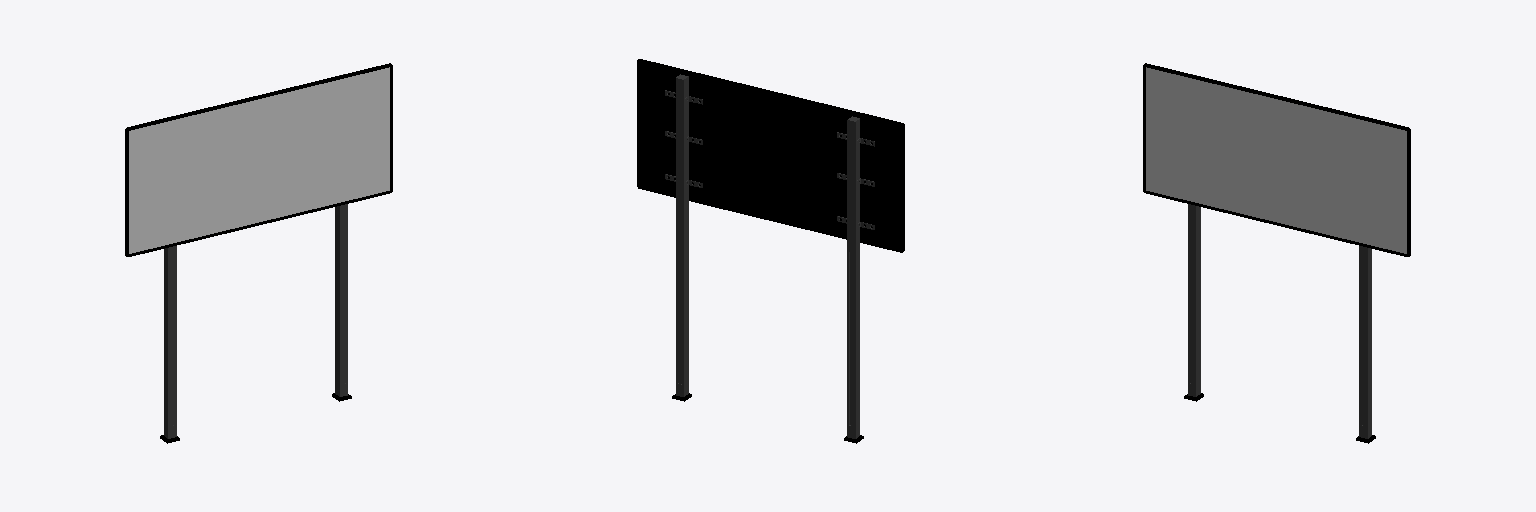
The model's file is fiffo.obj.
3 views of the same model, side by side, from view 1: azimuth 30°, elevation 25°; view 2: azimuth 150°, elevation 25°; view 3: azimuth 330°, elevation 25° (orthographic).
Visible parts, largest first — view 1: signRender_sign, signRender_pCube2; view 2: signRender_sign, signRender_pCube2; view 3: signRender_sign, signRender_pCube2.
Part boxes in pixels (bbox=[...]): signRender_sign: bbox=[125, 63, 392, 256]; signRender_pCube2: bbox=[160, 74, 351, 443]; signRender_sign: bbox=[637, 59, 904, 252]; signRender_pCube2: bbox=[672, 74, 863, 443]; signRender_sign: bbox=[1143, 63, 1410, 256]; signRender_pCube2: bbox=[1184, 74, 1375, 443].
Bounding box in the file's own units: 79.19 × 92.38 × 3.82.